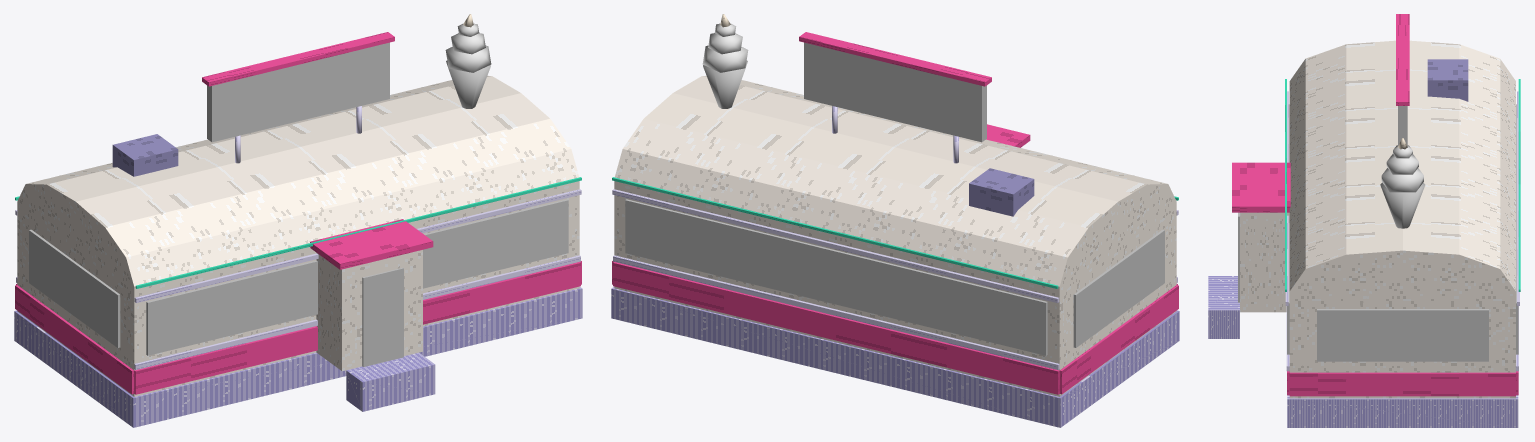
Rendered from Diner.fbx.
3 views of the same model, side by side, from view 1: azimuth 30°, elevation 25°; view 2: azimuth 150°, elevation 25°; view 3: azimuth 270°, elevation 25° (orthographic). The views are drawn at different scales.
Parts seen in each view (by area): view 1: Diner body, Diner windows -1, Diner skirt, Diner sign, Diner stripe -1, Diner vestibule, Diner end window -1, Diner step, Diner door, Diner vestibule roof, Diner end stripe -1, Diner chrome band -1 (+7 smaller); view 2: Diner body, Diner windows 1, Diner skirt, Diner stripe 1, Diner sign, Diner end window -1, Diner chrome band 1, Diner end stripe -1, Diner sill chrome 1, Diner ac unit, Diner sign cap, Diner neon 1 (+4 smaller); view 3: Diner body, Diner end window 1, Diner skirt, Diner end stripe 1, Diner vestibule, Diner vestibule roof, Diner step, Diner ac unit, Diner sign cap, Diner cone, Diner swirl 0, Diner neon 1 (+7 smaller).
Boxes of the visible parts, x1,y1,x2,y2 form: Diner body: [17, 75, 579, 396]; Diner windows -1: [146, 199, 568, 355]; Diner skirt: [14, 287, 582, 427]; Diner sign: [207, 42, 389, 142]; Diner stripe -1: [134, 262, 580, 394]; Diner vestibule: [316, 250, 422, 371]; Diner end window -1: [29, 229, 120, 347]; Diner step: [346, 352, 435, 411]; Diner door: [362, 267, 403, 366]; Diner vestibule roof: [310, 219, 433, 269]; Diner end stripe -1: [15, 285, 134, 394]; Diner chrome band -1: [134, 255, 580, 369]; Diner body: [614, 75, 1176, 396]; Diner windows 1: [625, 199, 1047, 355]; Diner skirt: [611, 287, 1179, 427]; Diner stripe 1: [613, 262, 1059, 394]; Diner sign: [804, 42, 986, 142]; Diner end window -1: [1073, 229, 1164, 347]; Diner chrome band 1: [613, 255, 1059, 369]; Diner end stripe -1: [1059, 285, 1178, 394]; Diner sill chrome 1: [612, 189, 1059, 302]; Diner ac unit: [969, 168, 1034, 216]; Diner sign cap: [799, 32, 991, 86]; Diner neon 1: [612, 177, 1058, 288]; Diner body: [1289, 40, 1515, 398]; Diner end window 1: [1317, 309, 1488, 361]; Diner skirt: [1287, 395, 1518, 427]; Diner end stripe 1: [1289, 372, 1515, 396]; Diner vestibule: [1240, 212, 1289, 312]; Diner vestibule roof: [1232, 162, 1290, 212]; Diner step: [1208, 276, 1239, 338]; Diner ac unit: [1427, 59, 1468, 101]; Diner sign cap: [1396, 14, 1409, 105]; Diner cone: [1380, 182, 1425, 228]; Diner swirl 0: [1381, 168, 1423, 192]; Diner neon 1: [1518, 79, 1520, 291].
Size of the model in its own units: 11.12 by 6.45 by 6.91.
